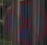No Stopping: (5, 1, 44, 44)
